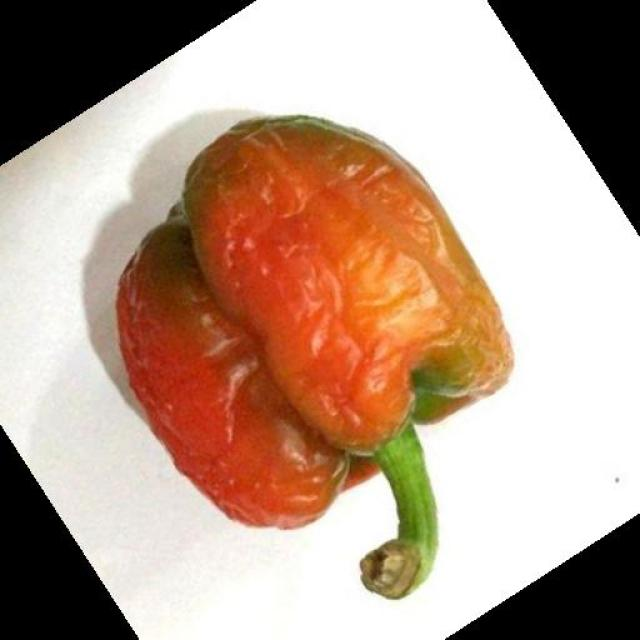Stale_Capsicum: (113, 95, 529, 616)
